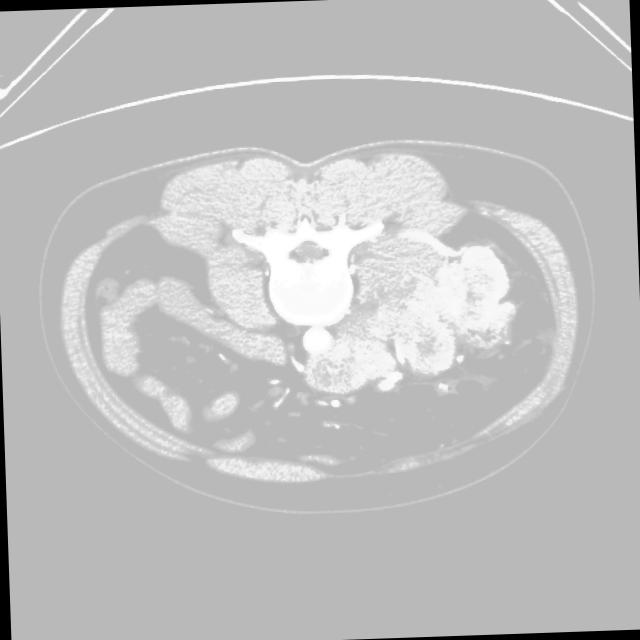TUMOR: (100, 224, 521, 496)
